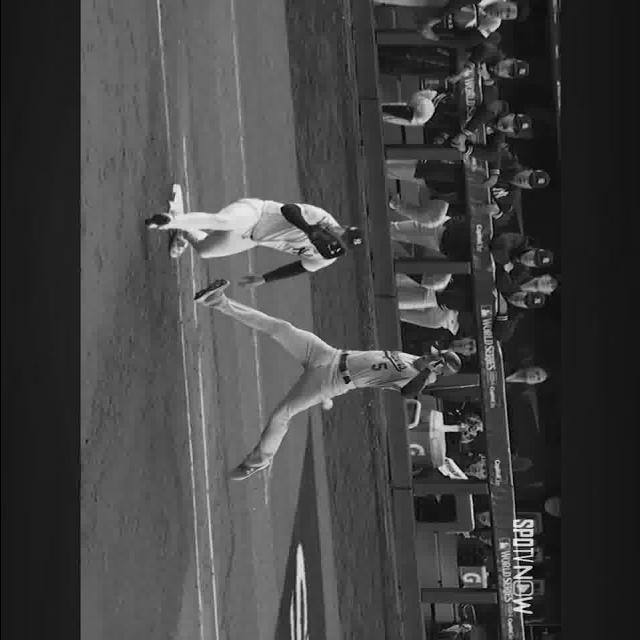base: (168, 184, 183, 215)
baseball: (321, 401, 331, 409)
baseball_glove: (307, 226, 345, 259)
shoe: (225, 456, 272, 481), (193, 280, 228, 304), (168, 230, 188, 258), (143, 214, 172, 231)
